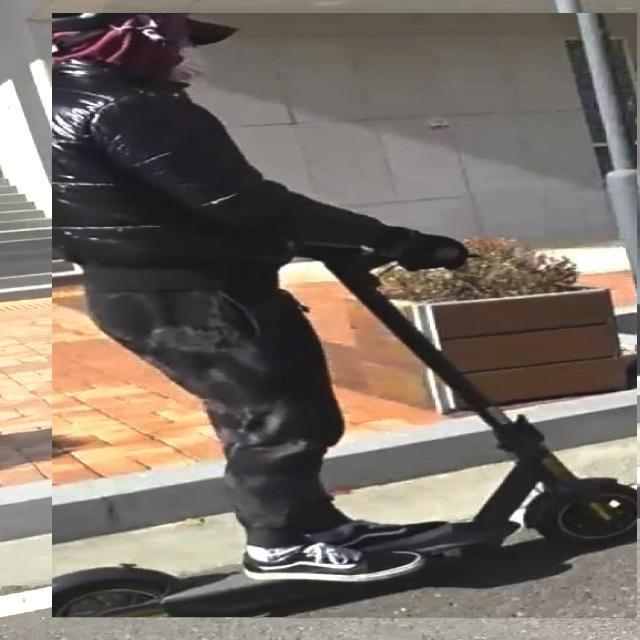with scooter: (52, 14, 637, 619)
